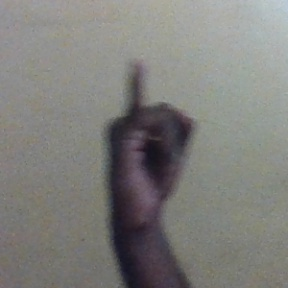I: (104, 61, 201, 220)
